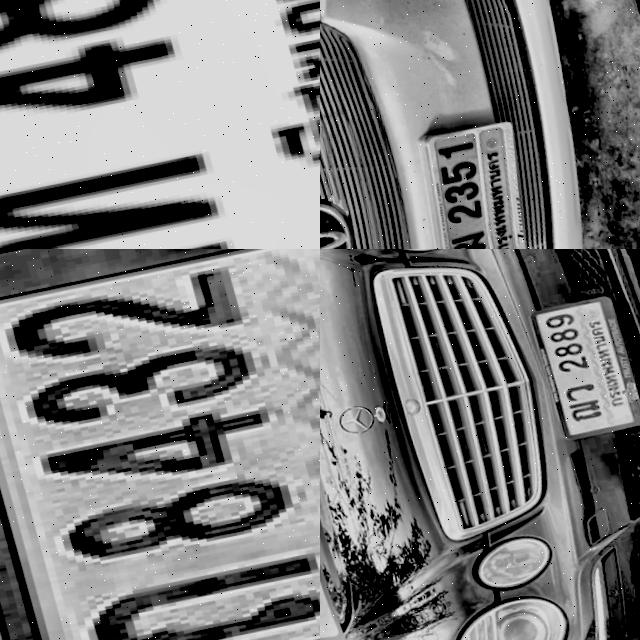license-plate: (0, 249, 320, 640), (0, 0, 320, 249), (389, 116, 547, 249), (519, 293, 640, 445)
